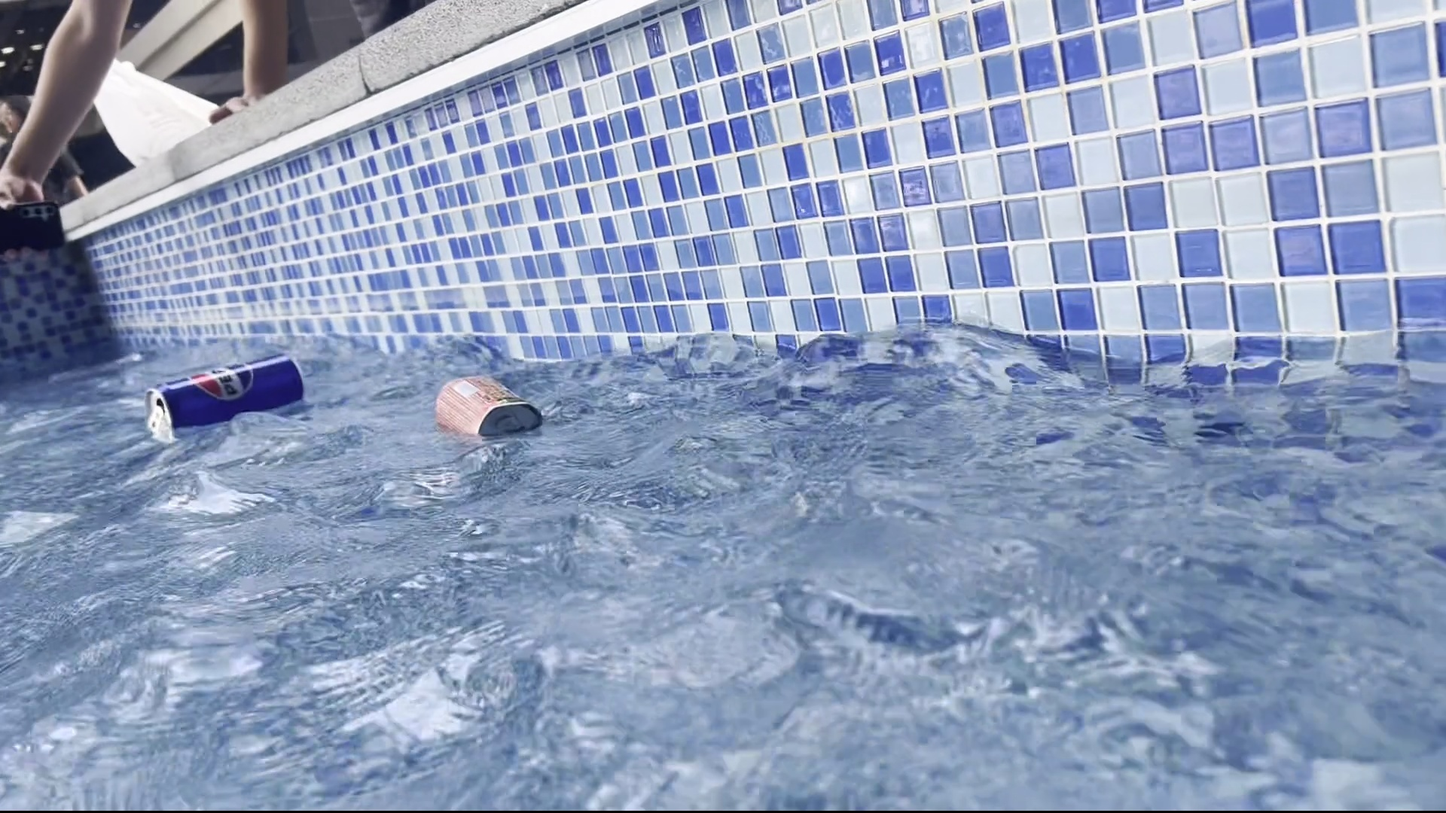debris: (135, 343, 307, 449), (423, 366, 553, 464)
